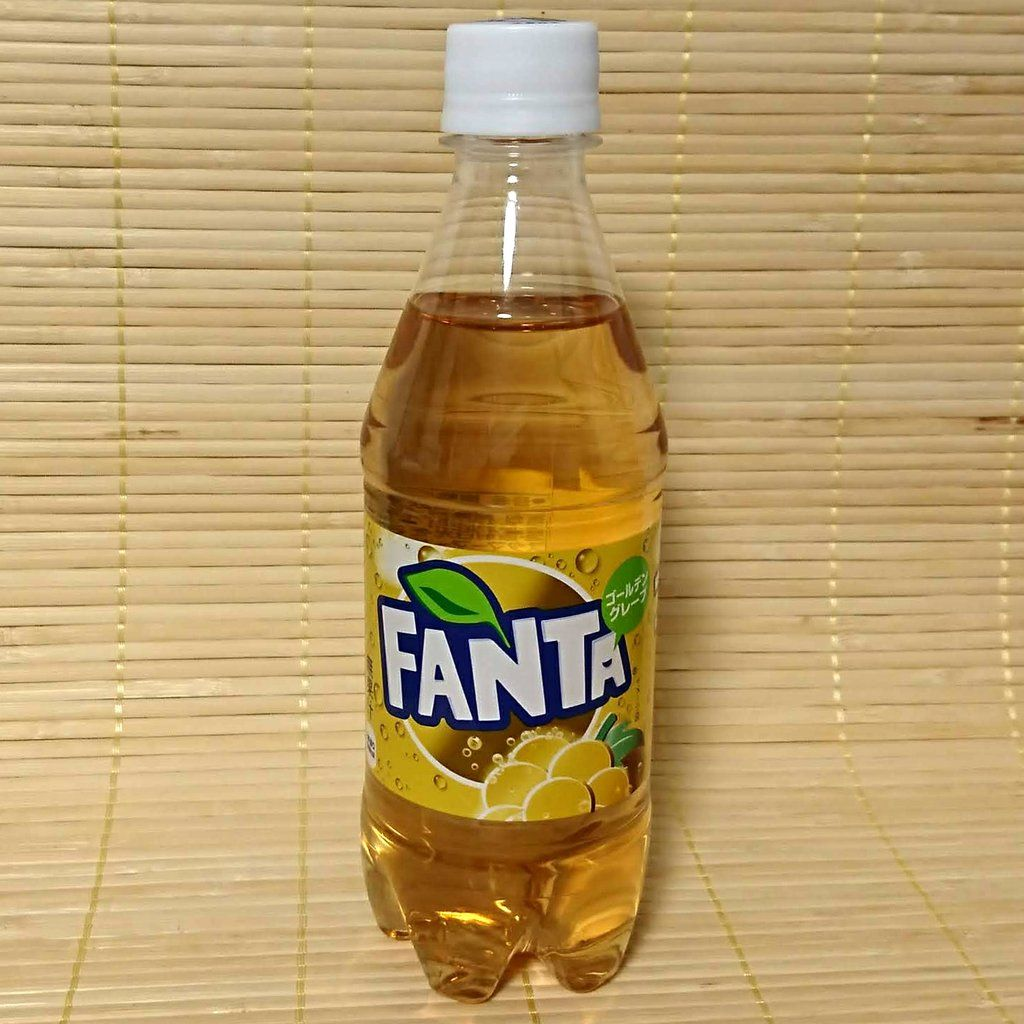Fanta: (368, 14, 652, 1007)
